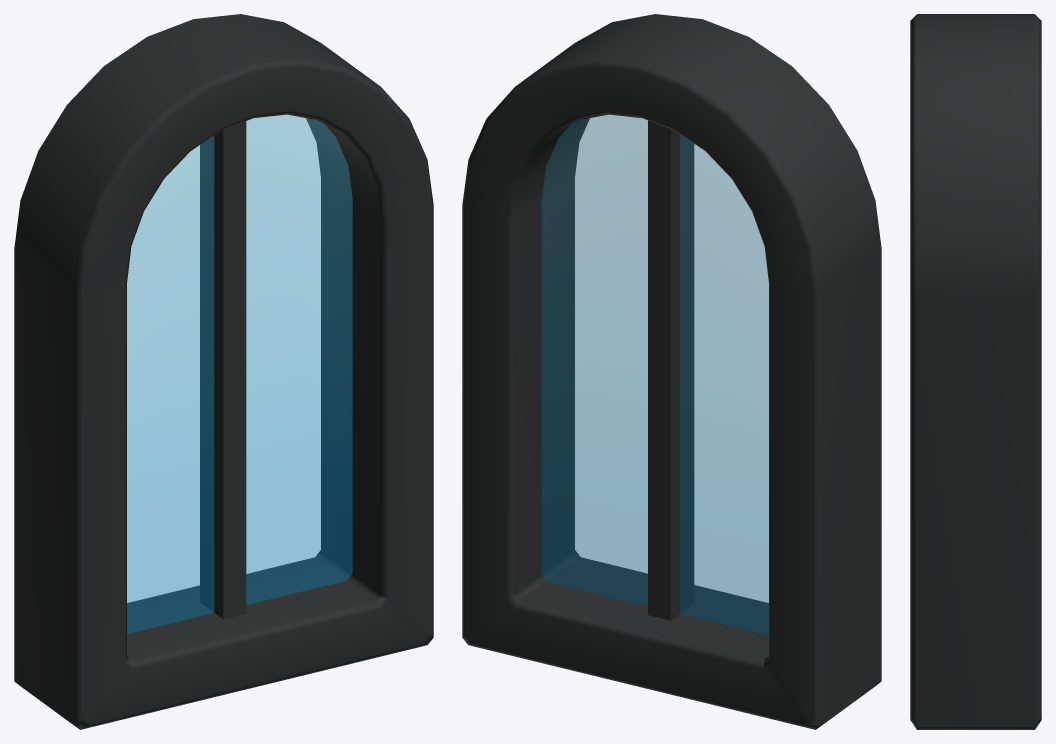
Rendered from Window_Black_14.glb.
3 views of the same model, side by side, from view 1: azimuth 30°, elevation 25°; view 2: azimuth 150°, elevation 25°; view 3: azimuth 270°, elevation 25° (orthographic).
Visible parts, largest first — view 1: Window_Black_14; view 2: Window_Black_14; view 3: Window_Black_14.
Boxes of the visible parts, left/top/right/bottom form: Window_Black_14: left=14, top=14, right=433, bottom=729; Window_Black_14: left=462, top=14, right=881, bottom=729; Window_Black_14: left=910, top=14, right=1041, bottom=729.
Size of the model in its own units: 1.24 by 2.07 by 0.4.
2 materials, 2 textured.
